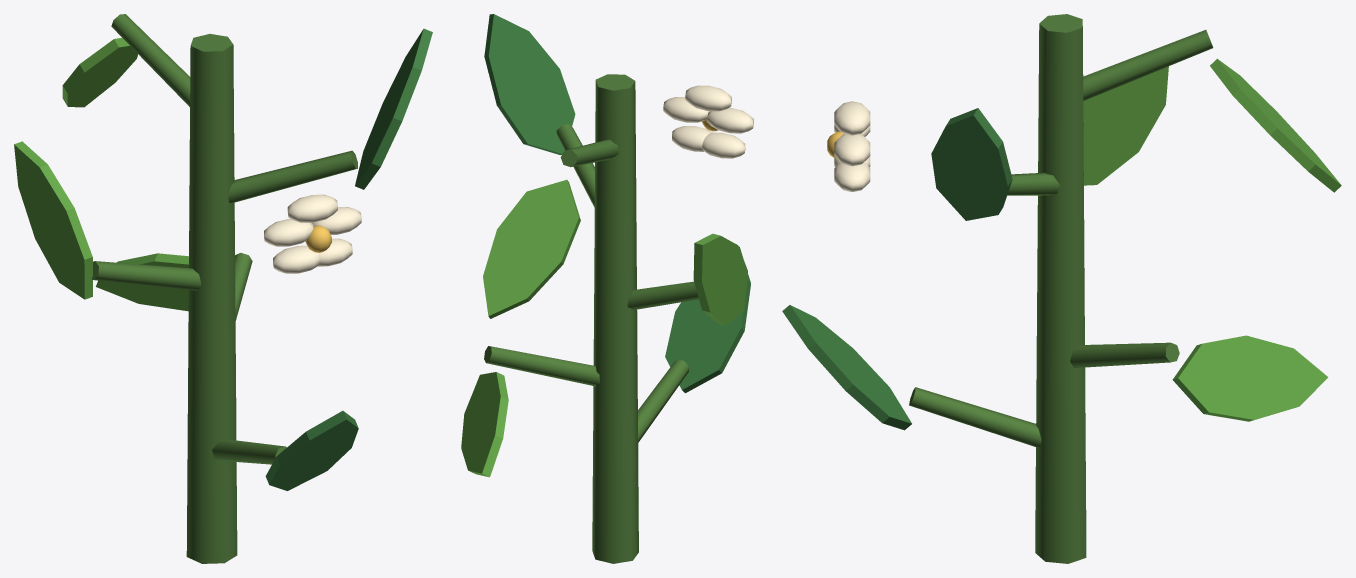
Rendered from tomato-growing.glb.
3 views of the same model, side by side, from view 1: azimuth 30°, elevation 25°; view 2: azimuth 150°, elevation 25°; view 3: azimuth 270°, elevation 25° (orthographic). The views are drawn at different scales.
Parts seen in each view (by area): view 1: tomato_growing_stem, tomato_growing_leaf, tomato_growing_leafDark, tomato_growing_flower, tomato_growing_flowerCore; view 2: tomato_growing_stem, tomato_growing_leaf, tomato_growing_leafDark, tomato_growing_flower; view 3: tomato_growing_stem, tomato_growing_leaf, tomato_growing_leafDark, tomato_growing_flower.
Boxes of the visible parts, box(x1,y1,x2,y2) form: tomato_growing_stem: box(92, 14, 357, 563); tomato_growing_leaf: box(14, 38, 188, 311); tomato_growing_leafDark: box(265, 28, 432, 490); tomato_growing_flower: box(264, 194, 361, 273); tomato_growing_flowerCore: box(305, 225, 331, 252); tomato_growing_stem: box(484, 74, 698, 563); tomato_growing_leaf: box(461, 179, 747, 477); tomato_growing_leafDark: box(484, 14, 750, 393); tomato_growing_flower: box(663, 85, 753, 158); tomato_growing_stem: box(909, 14, 1213, 563); tomato_growing_leaf: box(1083, 58, 1341, 421); tomato_growing_leafDark: box(782, 108, 1012, 430); tomato_growing_flower: box(834, 101, 870, 191).
Size of the model in its own units: 0.2596 by 0.3918 by 0.3737.
